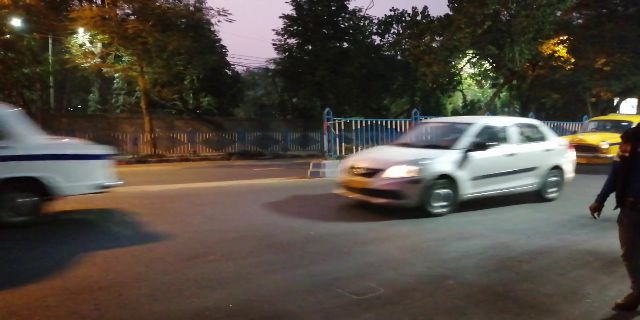Car: (332, 116, 581, 210)
